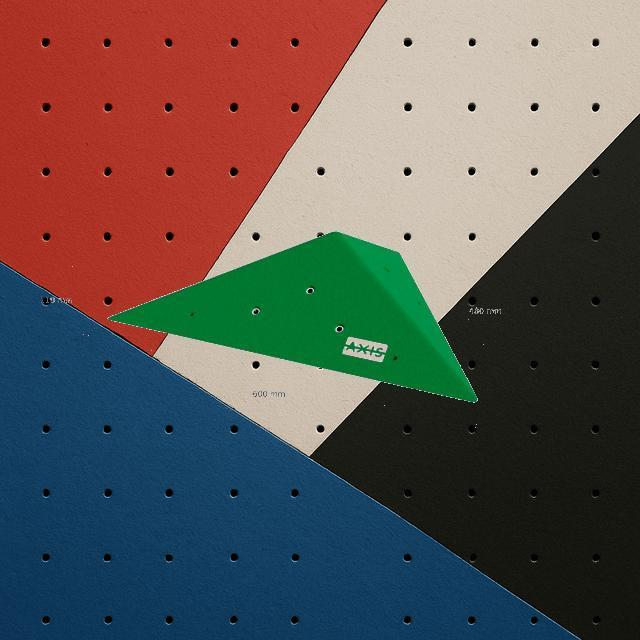Volume: (106, 230, 480, 402)
